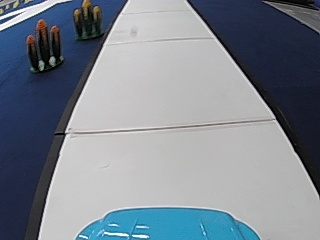corn: (26, 18, 64, 72), (72, 0, 104, 40)
